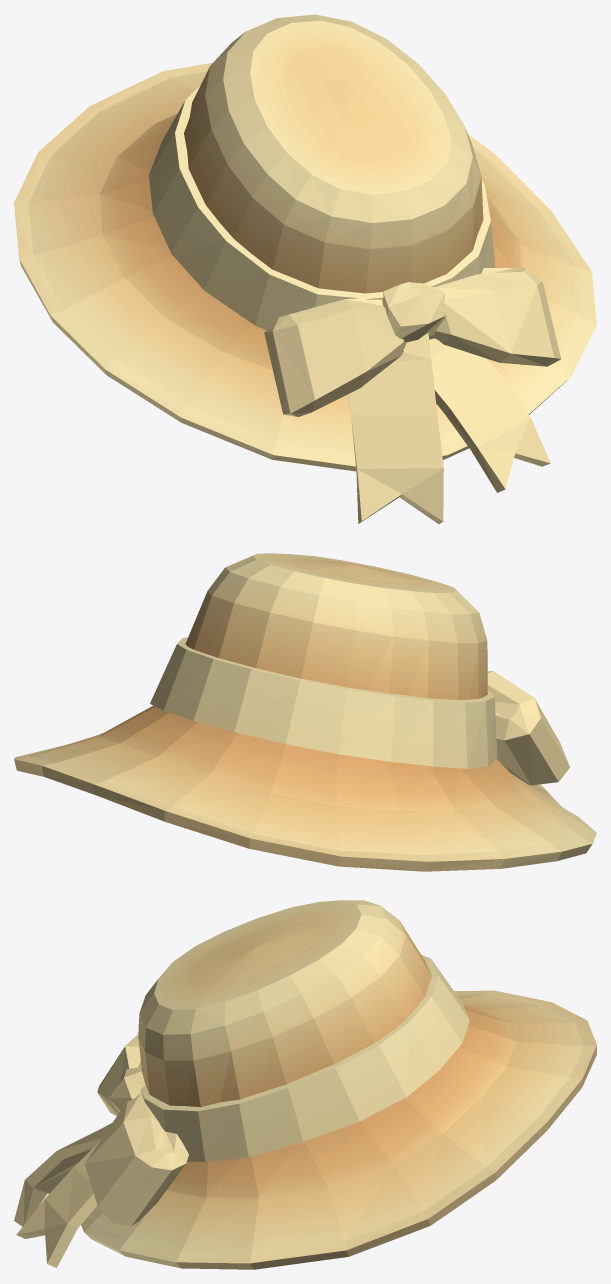
Rendered from CharSkyKid_Horn_SummerHat_01.glb.
3 renders of one model, top to bottom at view 1: azimuth 30°, elevation 25°; view 2: azimuth 150°, elevation 25°; view 3: azimuth 270°, elevation 25°, orthographic. The views are drawn at different scales.
Parts seen in each view (by area): view 1: CharSkyKid_Horn_SummerHat_01; view 2: CharSkyKid_Horn_SummerHat_01; view 3: CharSkyKid_Horn_SummerHat_01.
Part boxes in pixels (<box>): CharSkyKid_Horn_SummerHat_01: <box>14,14,596,524</box>; CharSkyKid_Horn_SummerHat_01: <box>14,553,596,871</box>; CharSkyKid_Horn_SummerHat_01: <box>14,900,596,1269</box>.
Size of the model in its own units: 5.12 by 3.48 by 5.59.
Materials: 1 (1 with a texture image).
